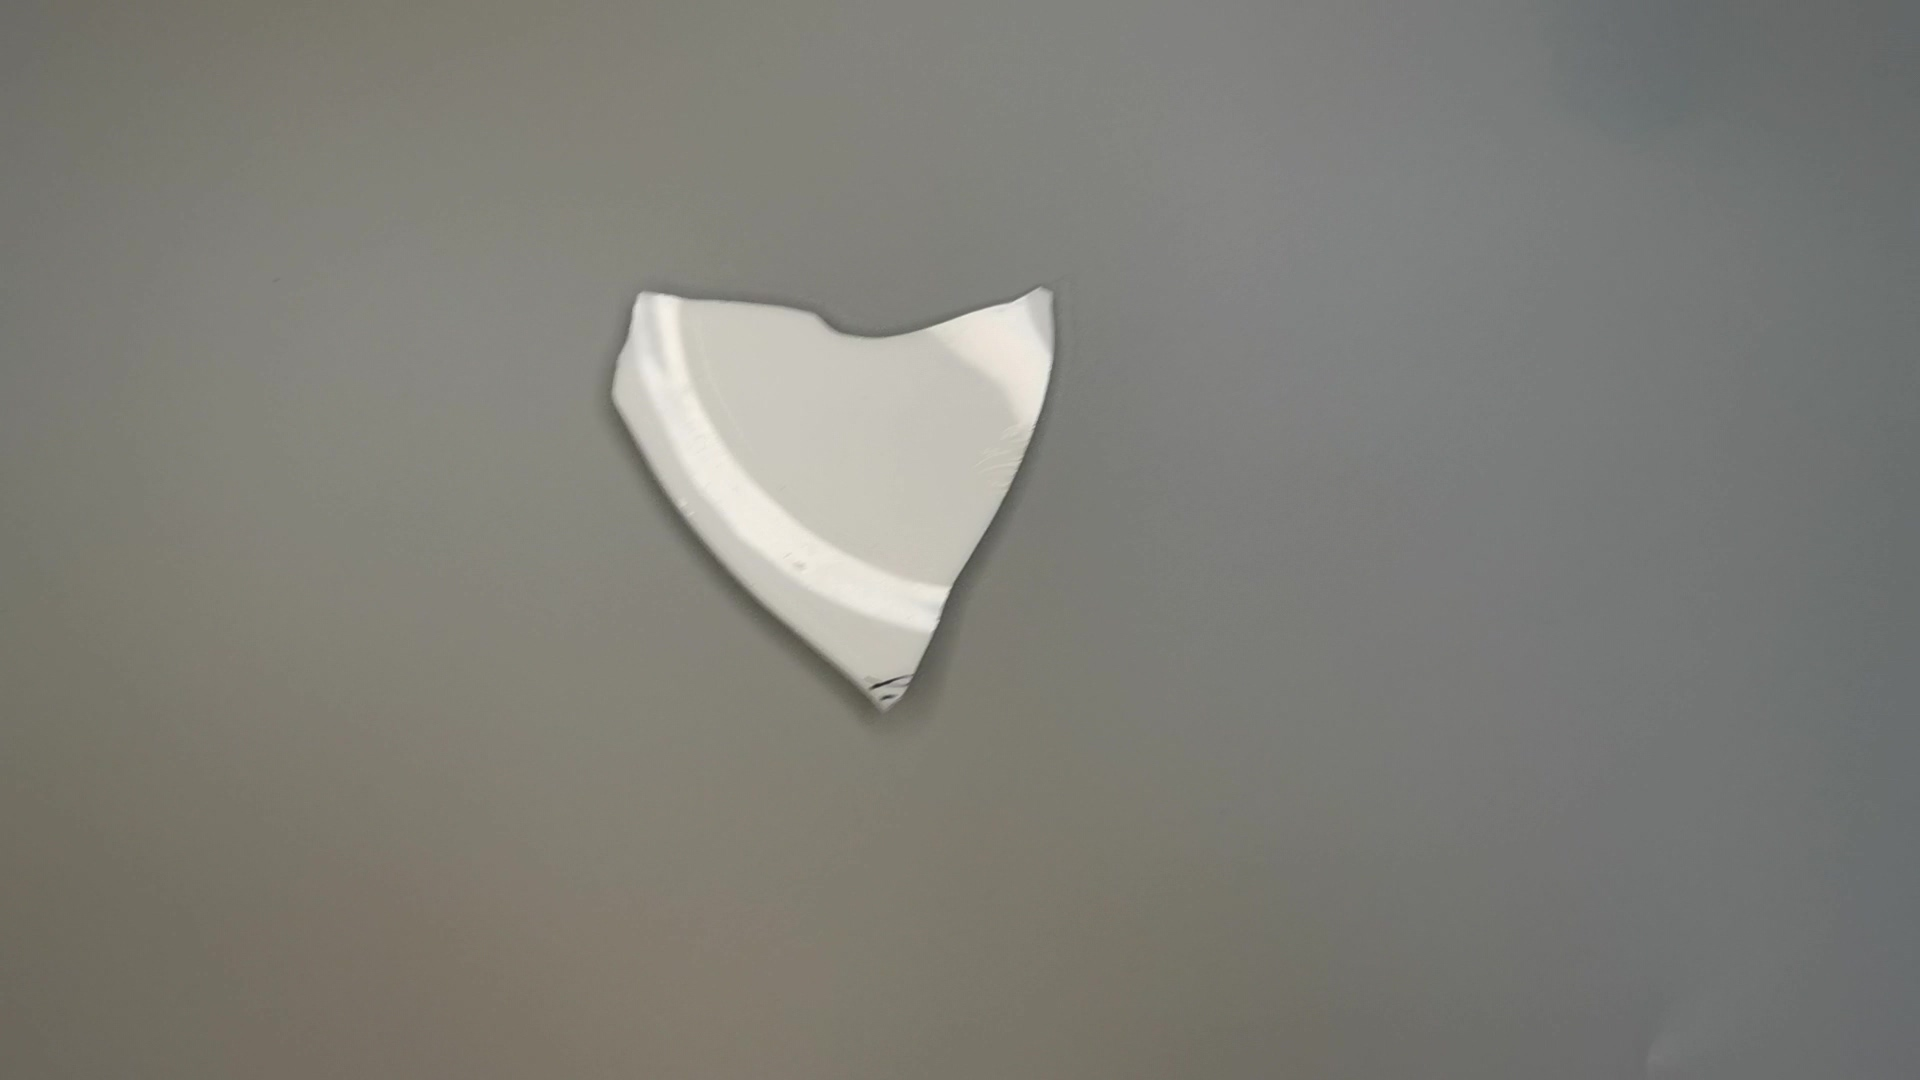ceramic: (603, 266, 1075, 727)
